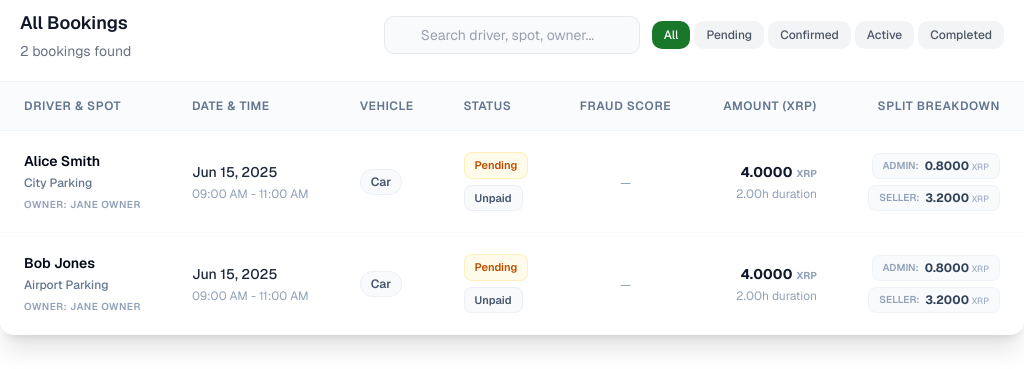
Test: BookingTable Component › Search Functionality › empty search shows all bookings
Expected: the text "Alice Smith" is shown, [24,152,100,170]
Type "Alice" into the field with placeholder "Search driver, spot, owner..." at (512, 35), box [384,16,640,54]
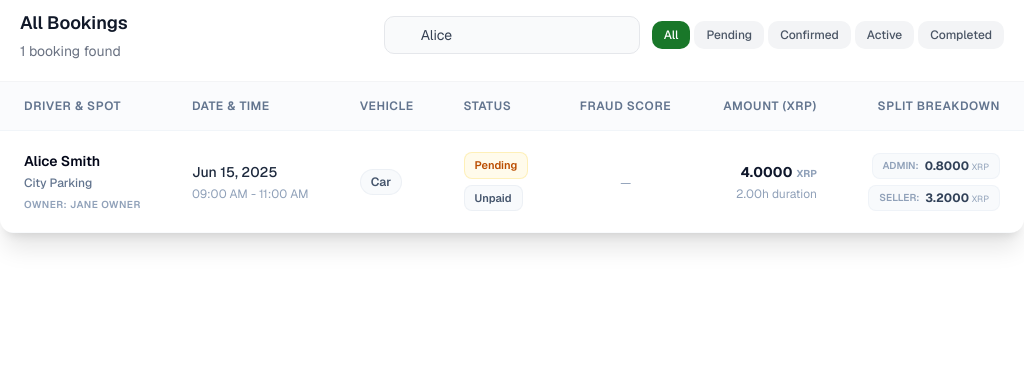
Now the text "Bob Jones" is gone
Clear the field with placeholder "Search driver, spot, owner..." at (512, 35), box [384,16,640,54]
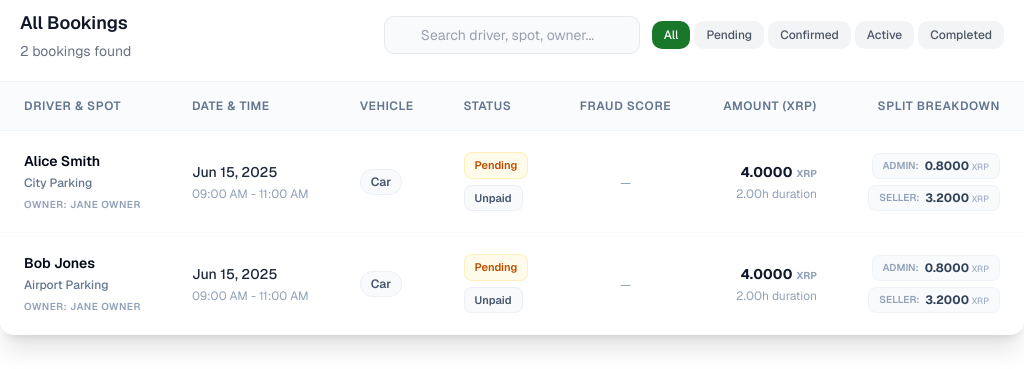
Expected: the text "Alice Smith" is shown, [24,152,100,170]
Now the text "Bob Jones" is shown, box [24,254,95,272]
